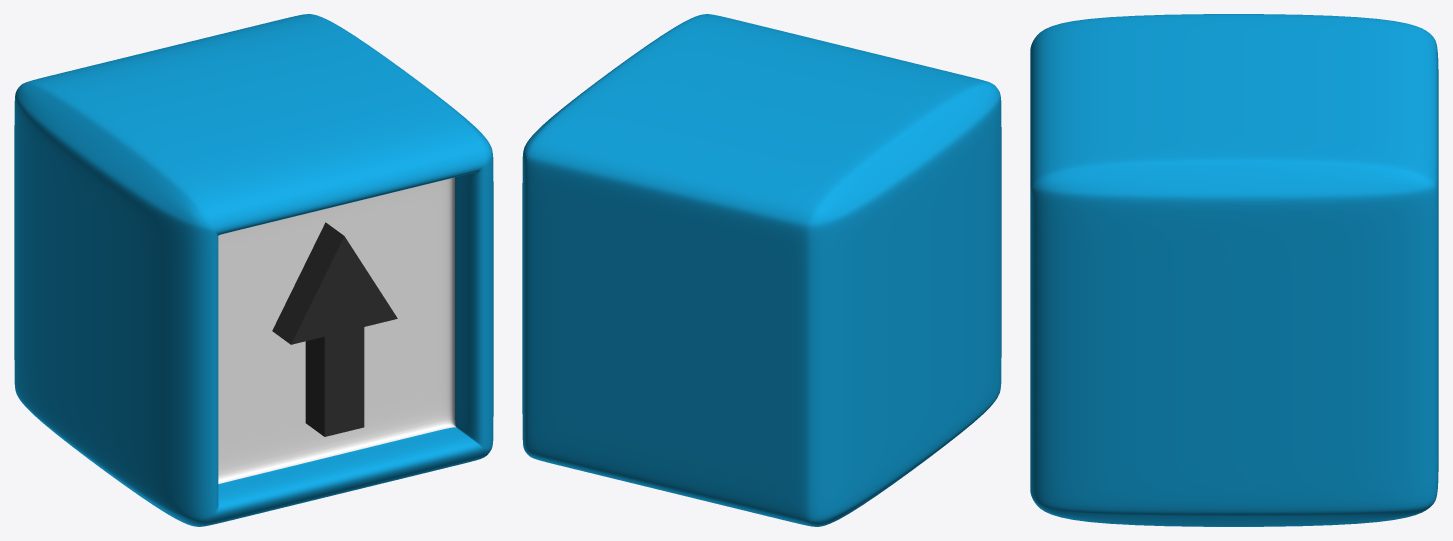
File: blockArrow.fbx
3 views of the same model, side by side, from view 1: azimuth 30°, elevation 25°; view 2: azimuth 150°, elevation 25°; view 3: azimuth 270°, elevation 25° (orthographic). The views are drawn at different scales.
Parts seen in each view (by area): view 1: Cube, Arrow; view 2: Cube; view 3: Cube.
Boxes of the visible parts, box(x1,y1,x2,y2) form: Cube: box(14, 14, 493, 526); Arrow: box(272, 222, 397, 436); Cube: box(522, 14, 1001, 526); Cube: box(1030, 14, 1438, 526).
Bounding box in the file's own units: 199 × 199 × 199.
